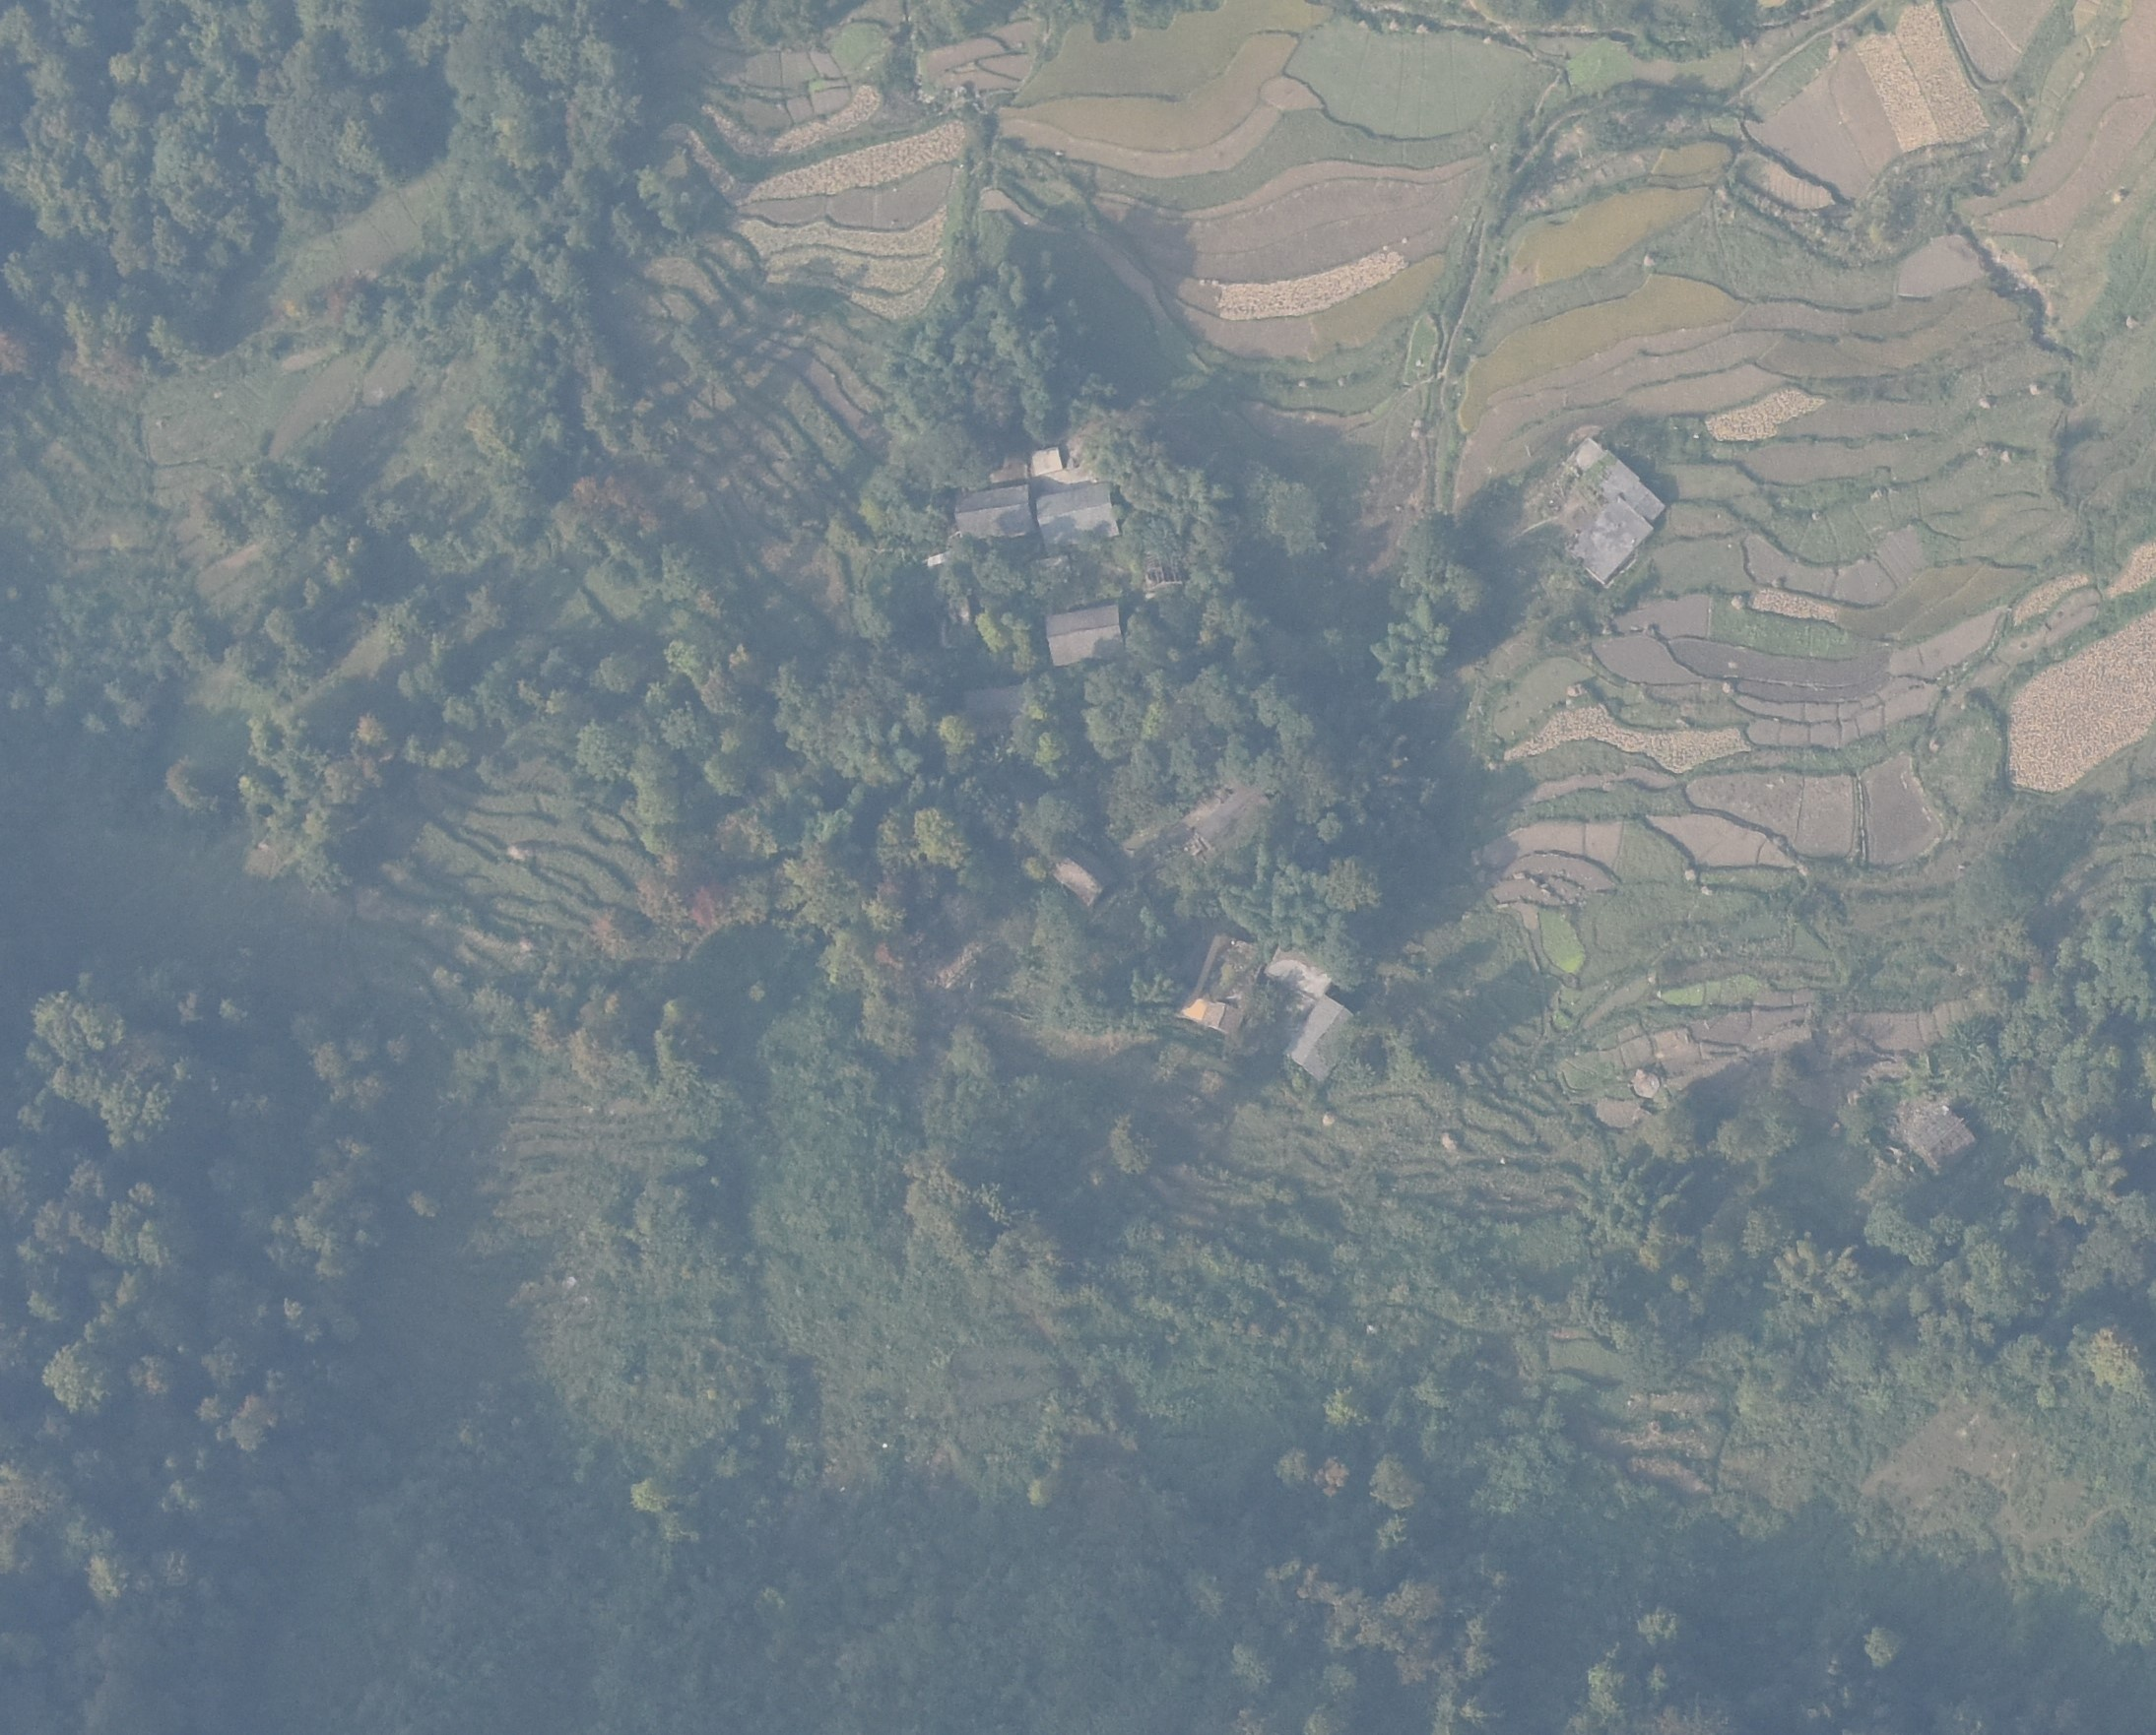building: (1567, 437, 1666, 586), (1179, 933, 1265, 1041), (1281, 993, 1363, 1081), (1034, 482, 1121, 542), (1907, 1109, 1980, 1179), (1046, 603, 1125, 665), (953, 483, 1033, 538), (1263, 942, 1337, 996), (1050, 840, 1112, 902), (989, 449, 1027, 483), (1027, 444, 1064, 477)
